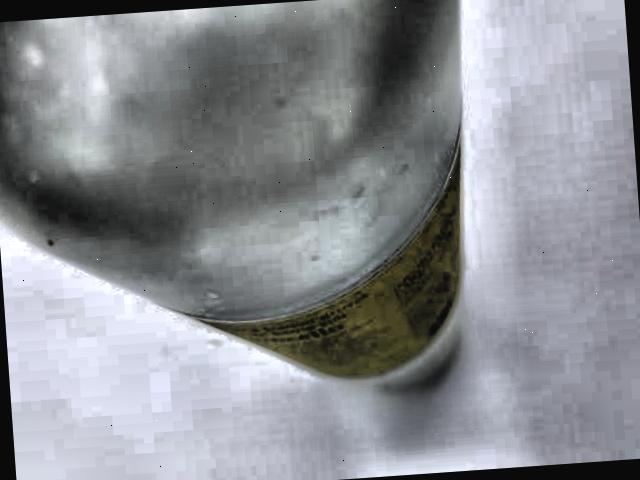Bottles: (0, 0, 492, 423)
